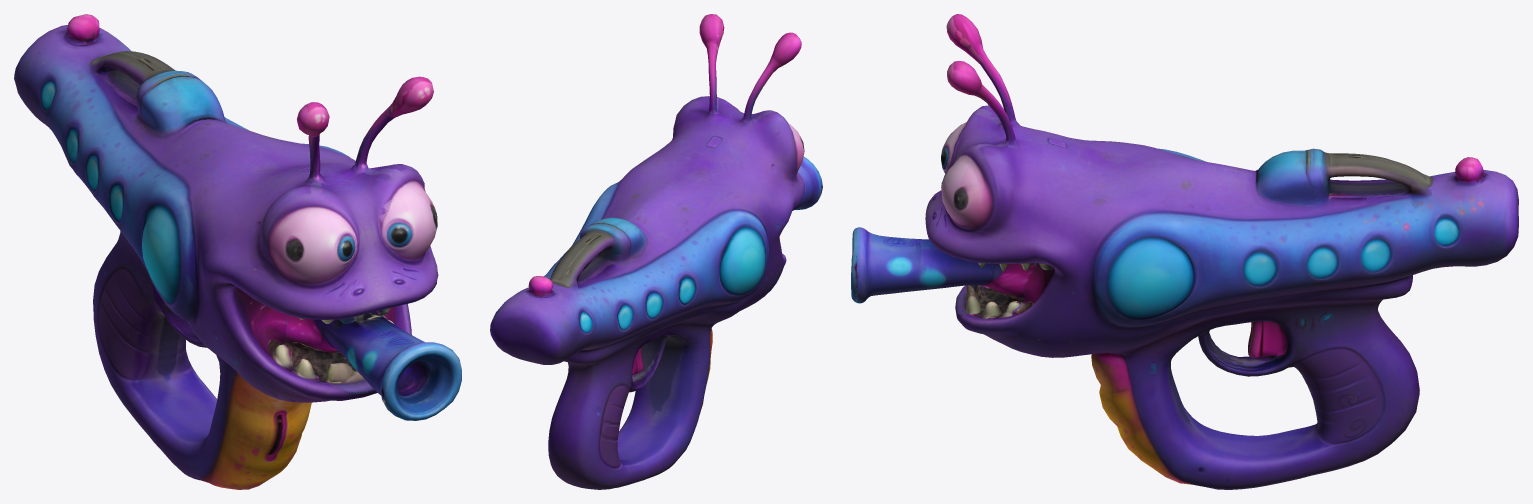
File: SM_Gun2.fbx
3 renders of one model, left to right at view 1: azimuth 30°, elevation 25°; view 2: azimuth 150°, elevation 25°; view 3: azimuth 270°, elevation 25°, orthographic. The views are drawn at different scales.
Visible parts, largest first — view 1: input; view 2: input; view 3: input.
Part boxes in pixels (x1,y1,x2,y2): input: (14, 14, 461, 489); input: (490, 14, 822, 489); input: (851, 14, 1518, 489).
Size of the model in its own units: 67.33 by 146 by 200.
Materials: 1 (1 with a texture image).
